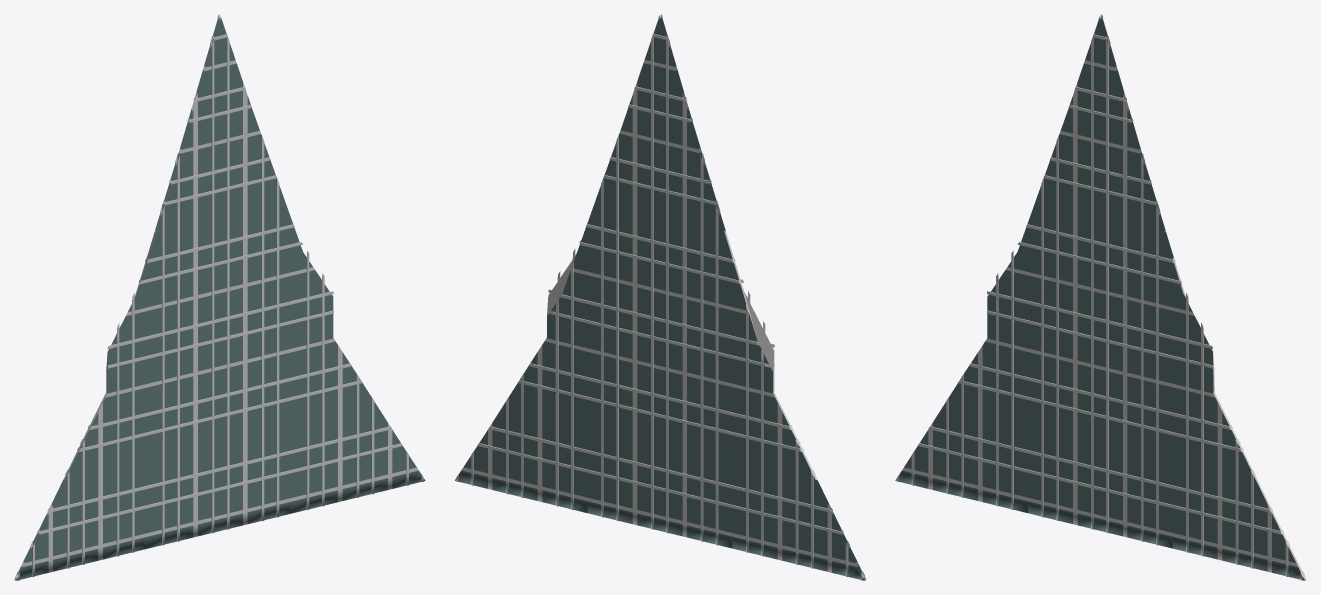
The model's file is AFA_GlassWall.fbx.
The picture shows the model from 3 angles, left to right: view 1: azimuth 30°, elevation 25°; view 2: azimuth 150°, elevation 25°; view 3: azimuth 330°, elevation 25°; orthographic projection.
Visible parts, largest first — view 1: Cube.001; view 2: Cube.001; view 3: Cube.001.
Boxes of the visible parts, bbox=[...] form: Cube.001: bbox=[14, 14, 425, 580]; Cube.001: bbox=[455, 14, 866, 580]; Cube.001: bbox=[895, 14, 1306, 580].
Size of the model in its own units: 5293 by 6360 by 49.61.
